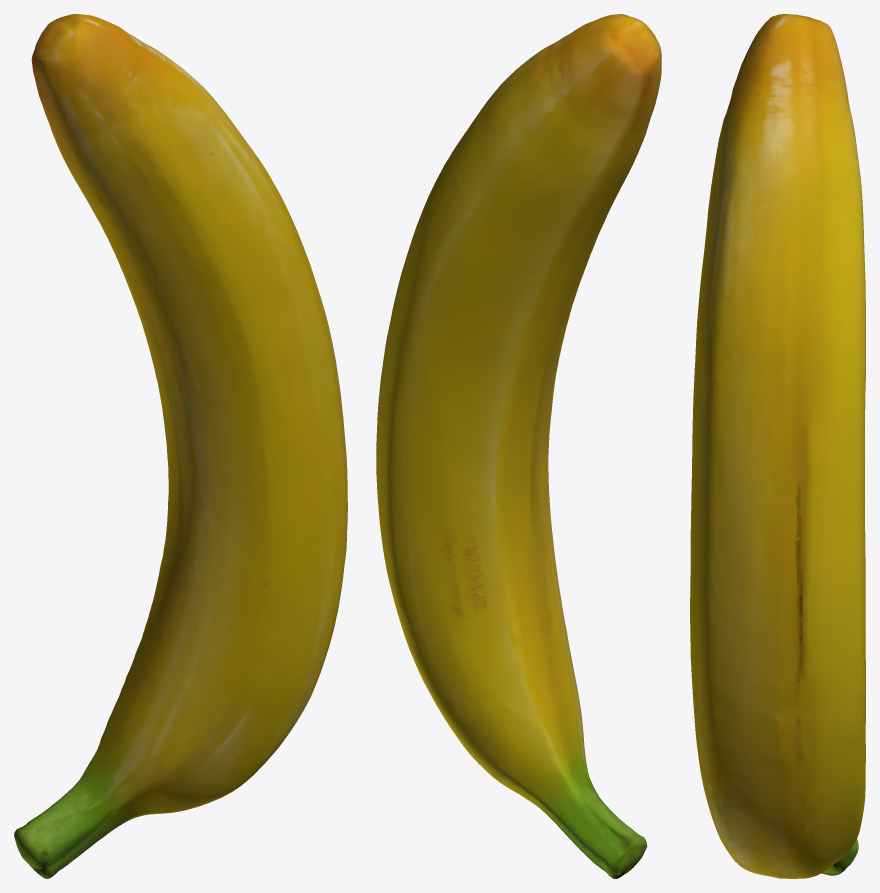
The model's file is banana.obj.
The picture shows the model from 3 angles, left to right: view 1: azimuth 30°, elevation 25°; view 2: azimuth 150°, elevation 25°; view 3: azimuth 270°, elevation 25°; orthographic projection. The views are drawn at different scales.
Size of the model in its own units: 0.0692 by 0.1976 by 0.0363.
1 material, 1 textured.
